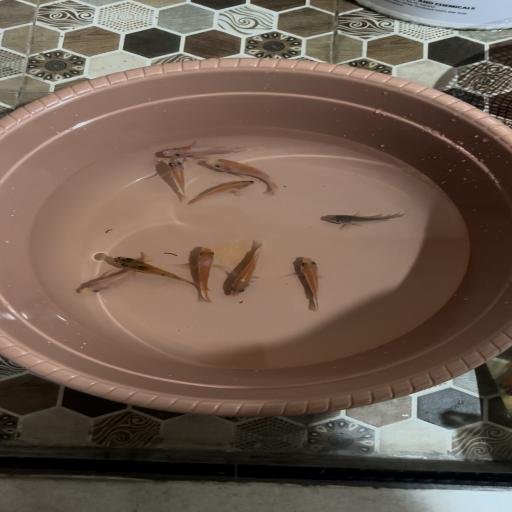nila: (77, 252, 150, 302), (202, 156, 297, 194), (108, 256, 208, 290), (180, 245, 227, 304), (323, 201, 418, 230), (223, 240, 267, 300), (286, 256, 333, 312), (159, 138, 258, 161), (186, 178, 258, 208), (159, 158, 194, 192)
